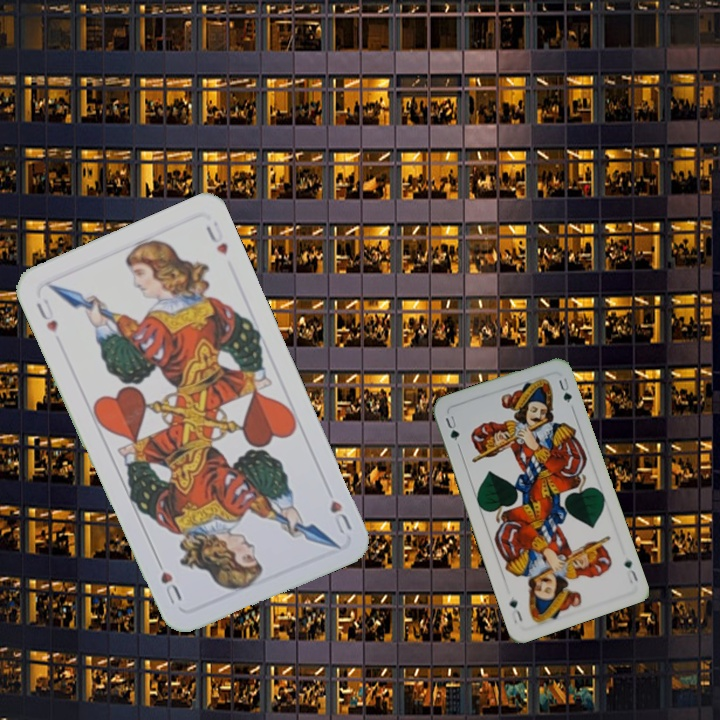GU: (441, 411, 462, 443), (620, 556, 640, 586)
HU: (32, 294, 61, 336), (326, 497, 355, 538)
